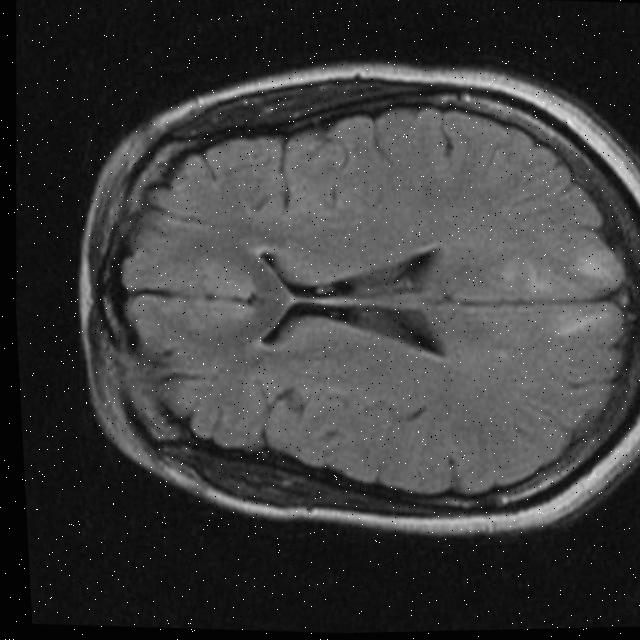NoTumor: (52, 40, 640, 554)
